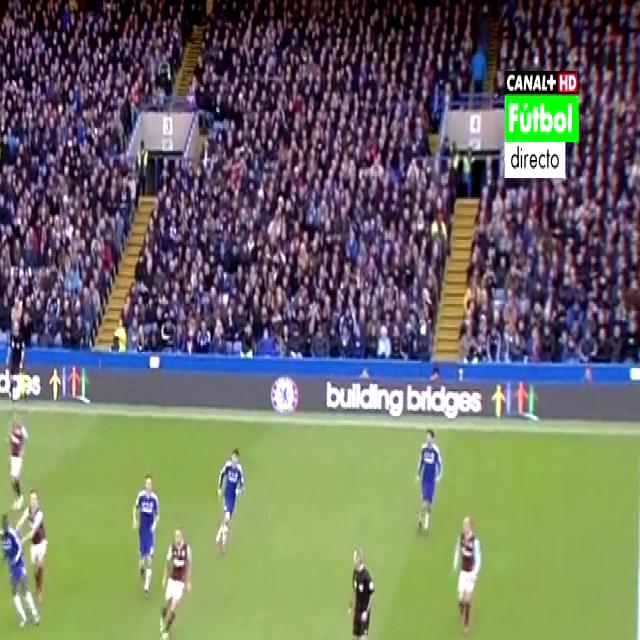referee: (0, 309, 29, 402)
soccer-player: (128, 461, 164, 597), (448, 505, 483, 640), (157, 515, 194, 640), (214, 432, 250, 553), (414, 419, 449, 543), (22, 484, 53, 624), (0, 492, 30, 630), (346, 540, 385, 640), (0, 402, 27, 516)
